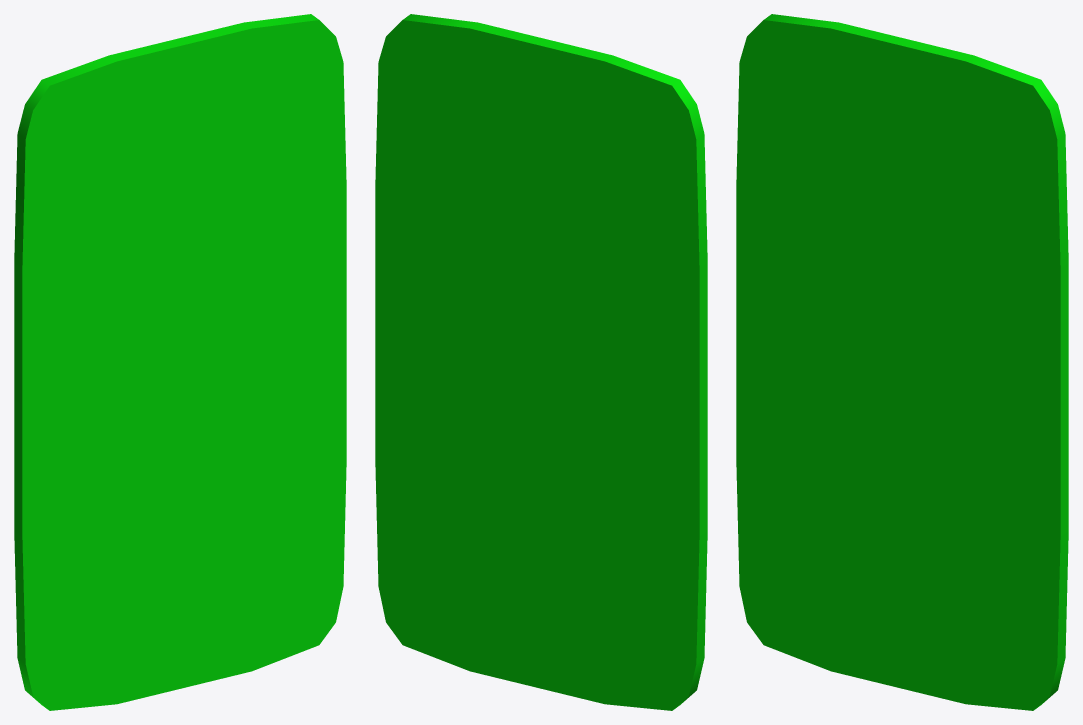
3 renders of one model, left to right at view 1: azimuth 30°, elevation 25°; view 2: azimuth 150°, elevation 25°; view 3: azimuth 330°, elevation 25°, orthographic.
Parts seen in each view (by area): view 1: Shield_Sq_02_B; view 2: Shield_Sq_02_B; view 3: Shield_Sq_02_B.
Part boxes in pixels (box(x1,y1,x2,y2)): Shield_Sq_02_B: box(14, 14, 346, 710); Shield_Sq_02_B: box(375, 14, 707, 710); Shield_Sq_02_B: box(736, 14, 1068, 710).
Size of the model in its own units: 1.06 by 0.0461 by 2.
